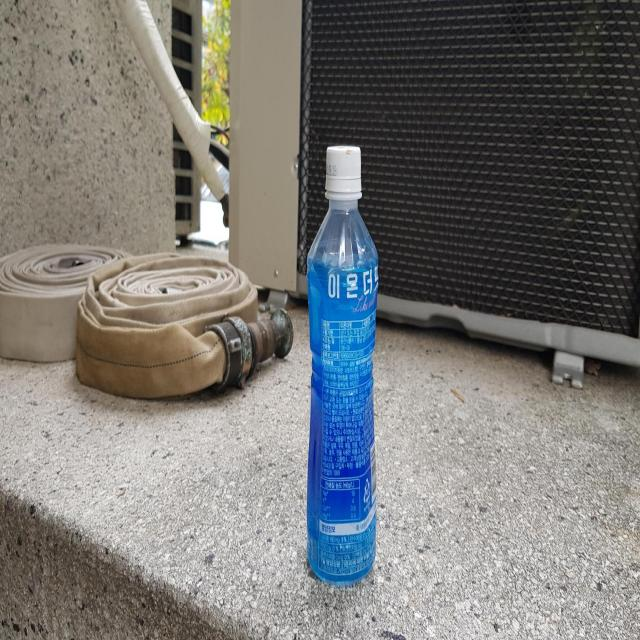plastic: (307, 145, 379, 585)
